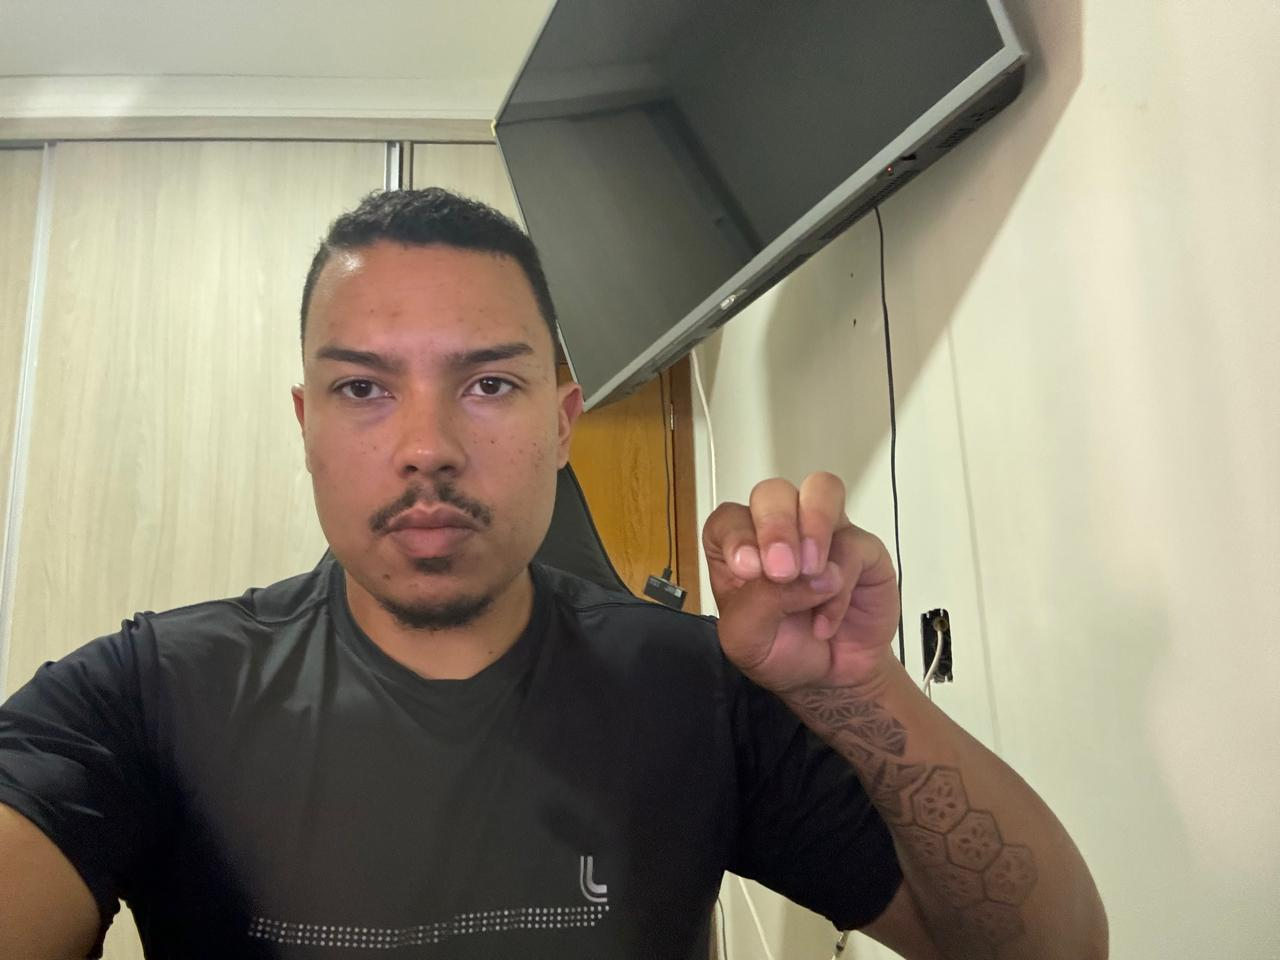m: (693, 469, 912, 710)
